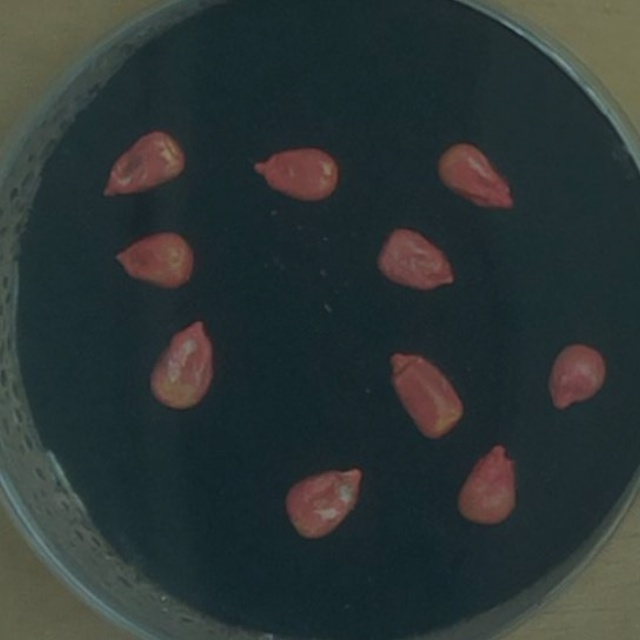Zea mays: (378, 343, 473, 448), (139, 312, 222, 417), (93, 123, 193, 209), (276, 460, 369, 548), (429, 136, 522, 221), (449, 434, 527, 532), (367, 219, 462, 298), (105, 224, 203, 298), (245, 139, 347, 210), (540, 336, 614, 422)
